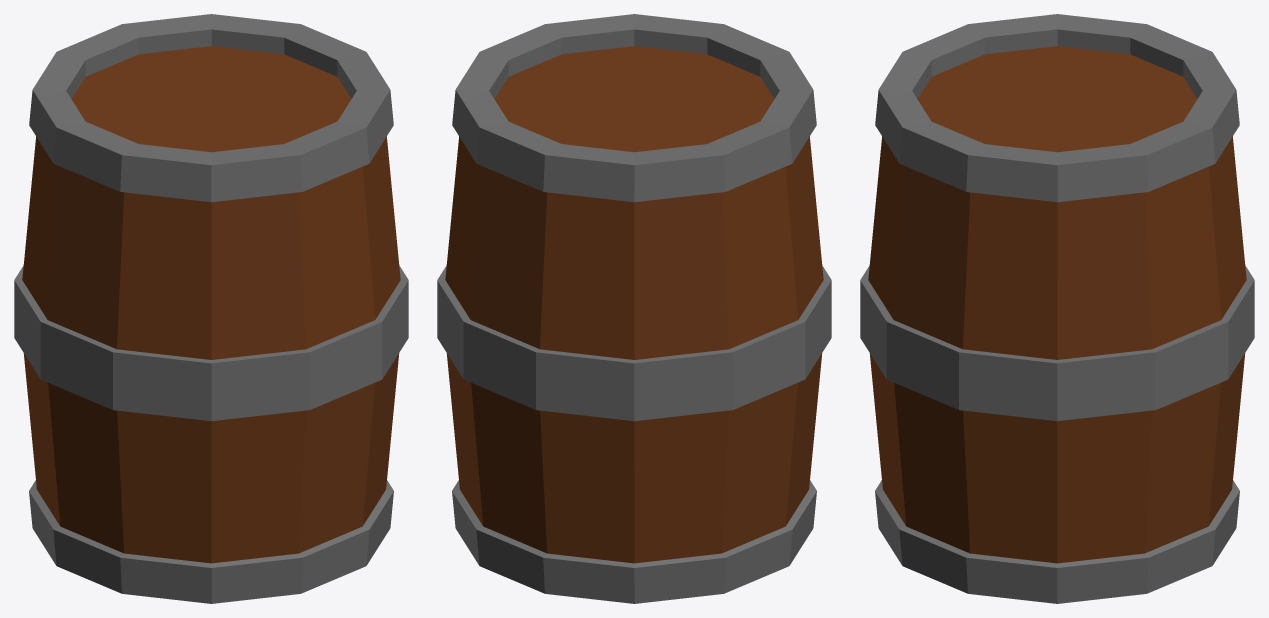
File: Barrel.fbx
3 views of the same model, side by side, from view 1: azimuth 30°, elevation 25°; view 2: azimuth 150°, elevation 25°; view 3: azimuth 270°, elevation 25° (orthographic).
Parts seen in each view (by area): view 1: barrel; view 2: barrel; view 3: barrel.
Boxes of the visible parts, left/top/right/bottom form: barrel: left=14, top=14, right=408, bottom=603; barrel: left=437, top=14, right=831, bottom=603; barrel: left=860, top=14, right=1254, bottom=603.
Bounding box in the file's own units: 28.25 × 34.67 × 28.25.
